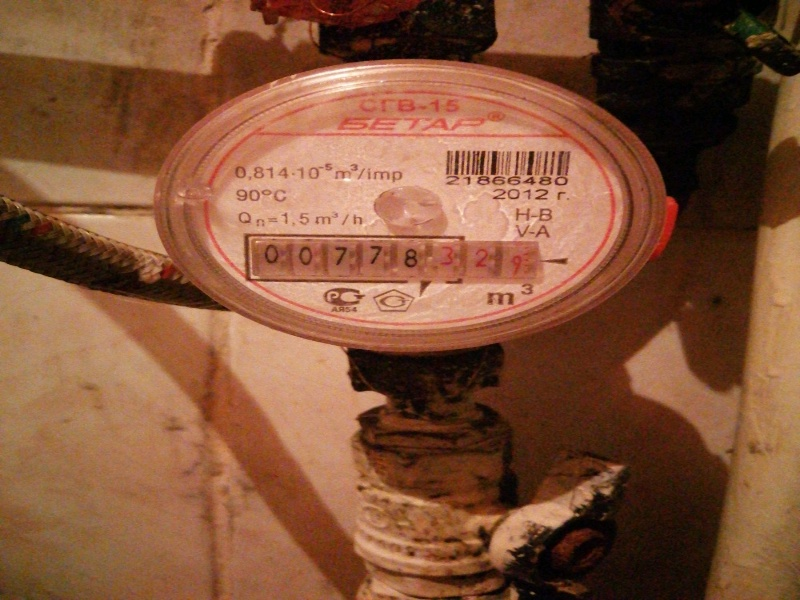meter: (252, 239, 535, 279)
